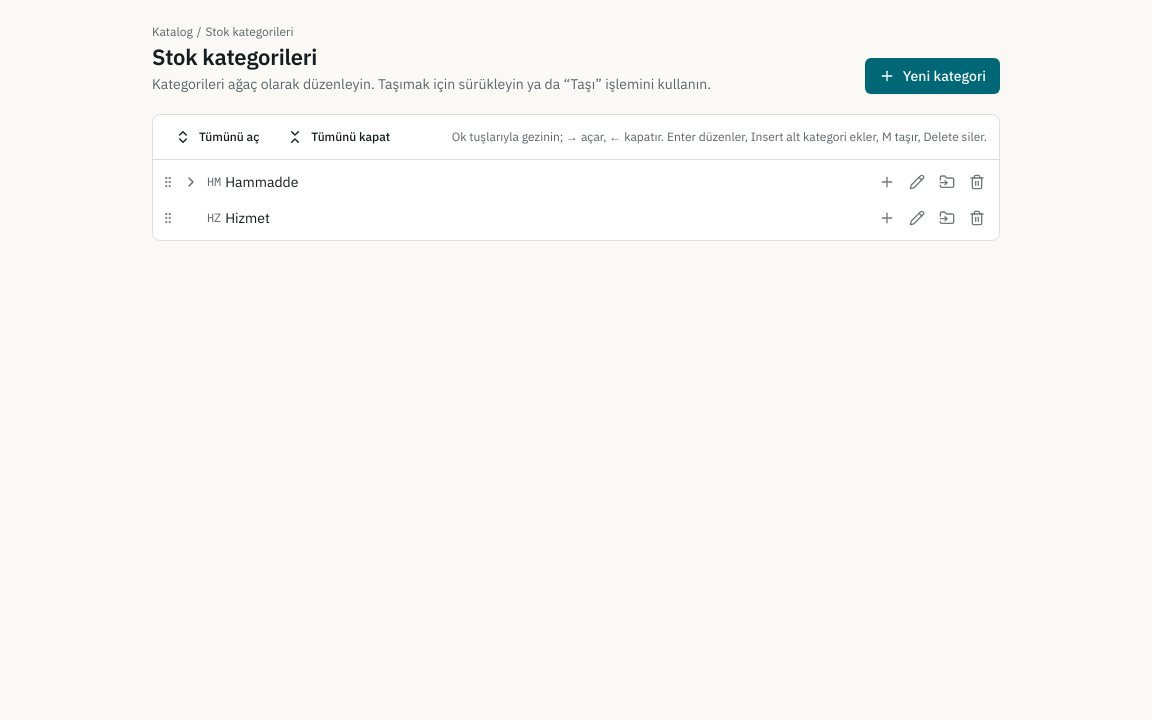
CategoriesPage › adds a child category under the chosen parent
Click the button named "Hizmet altına kategori ekle" at coordinates (887, 218), box [873,204,901,232]
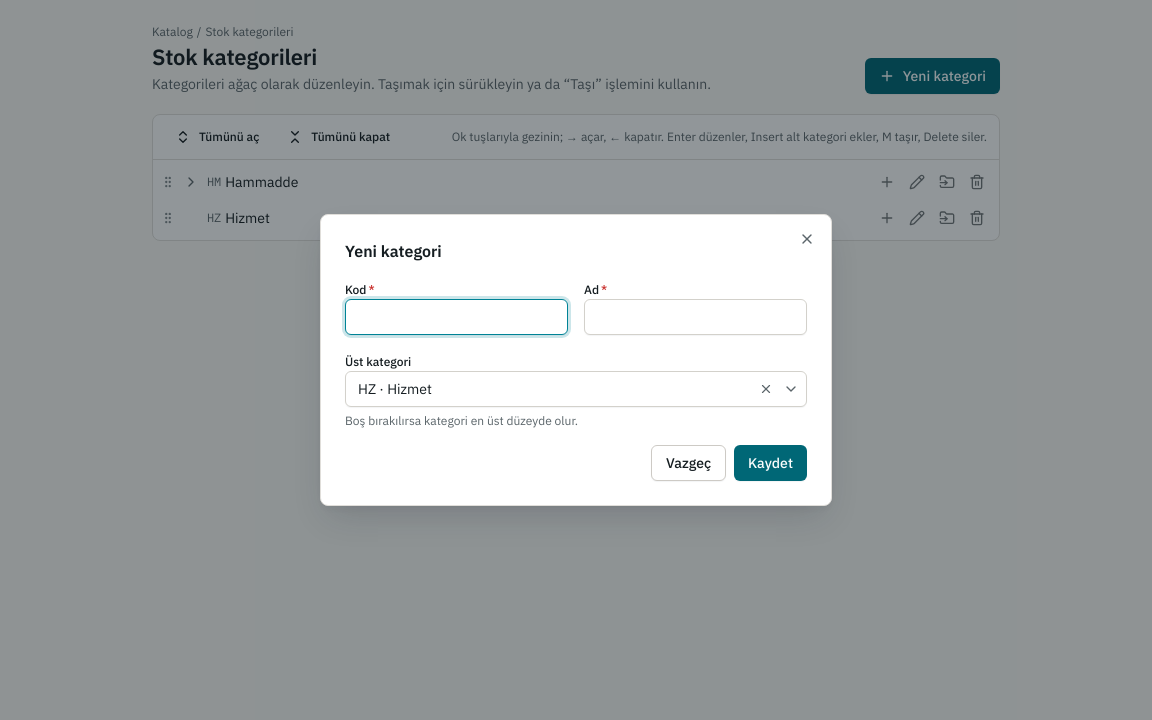
Type "HZ.01" into the field labelled "Kod*" at coordinates (456, 317), box [345,299,568,335]
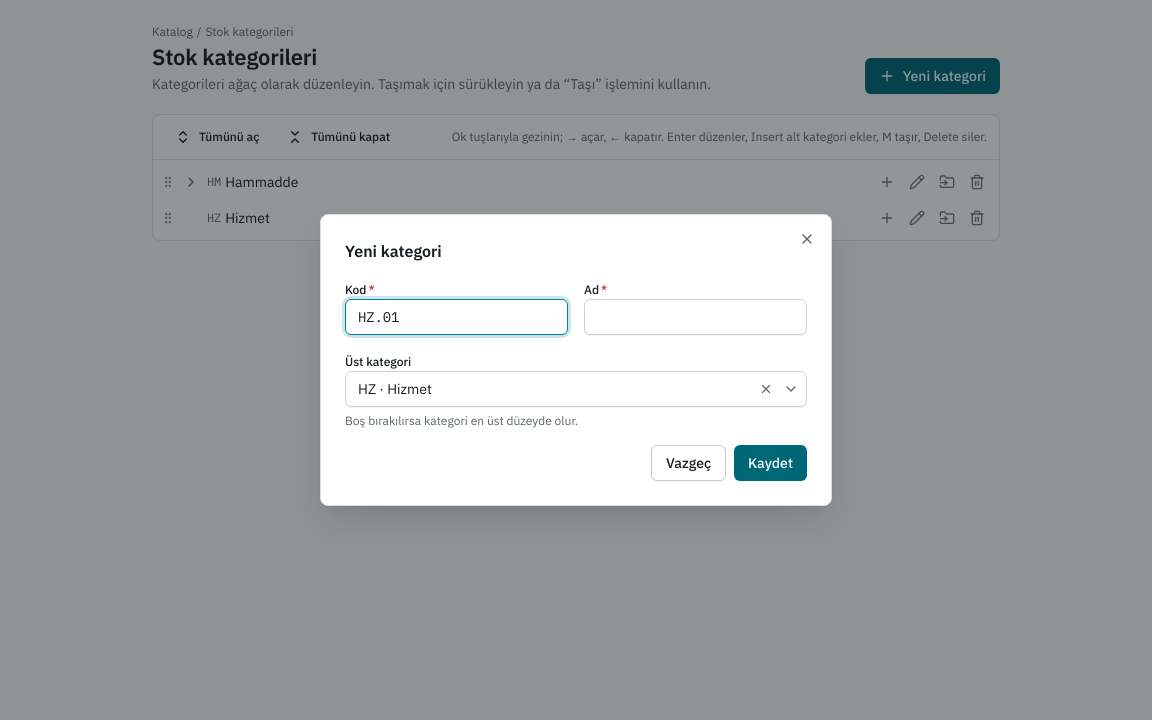
Type "Montaj" into the field labelled "Ad*" at coordinates (696, 317), box [584,299,807,335]
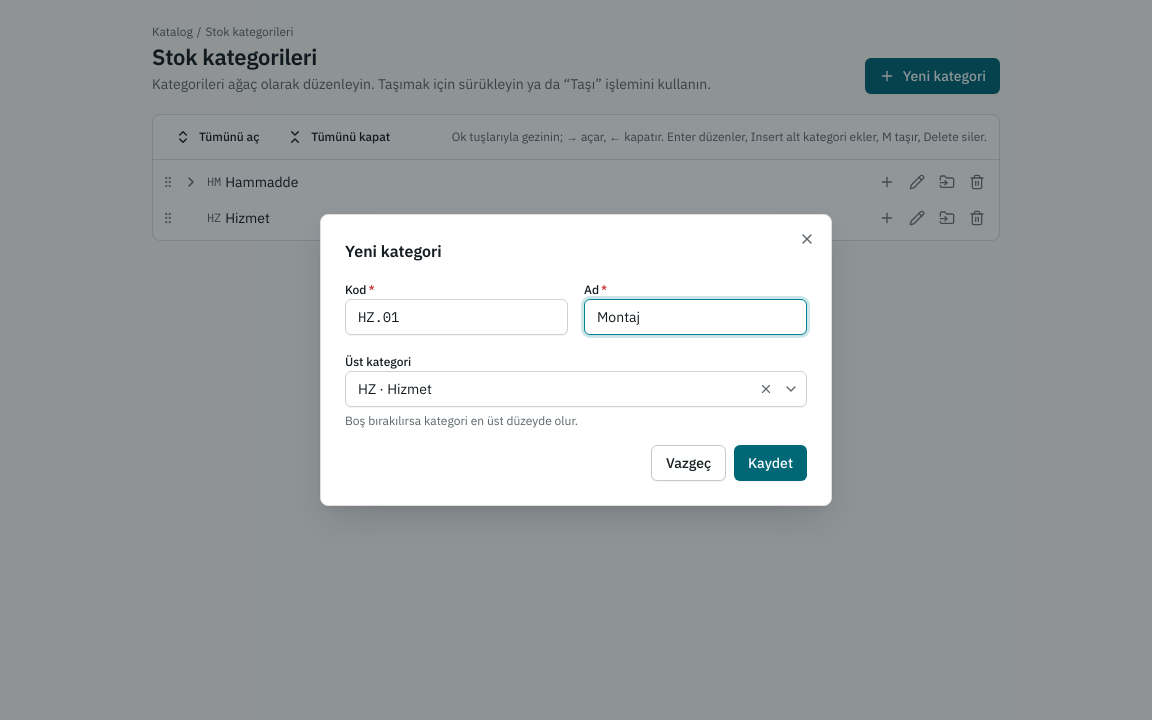
Click the button "Kaydet" at coordinates (771, 463), box [734,445,807,481]
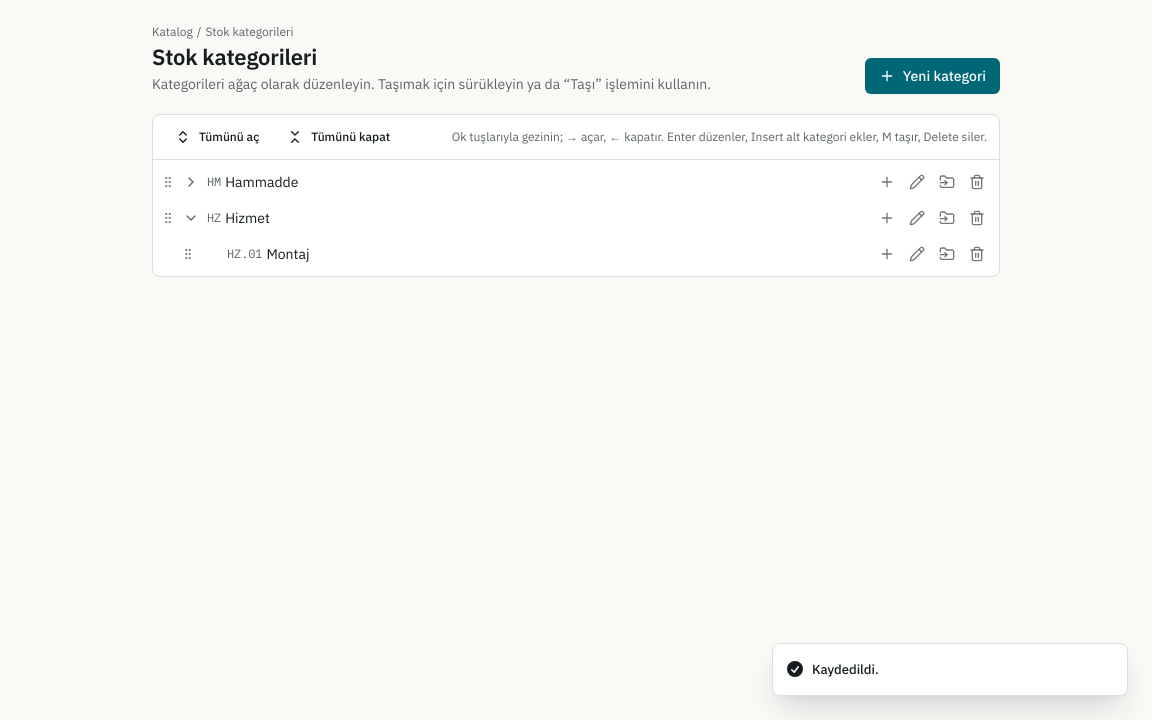
expect the list item "HZ.01 Montaj" is shown: met, box [153,236,999,272]
